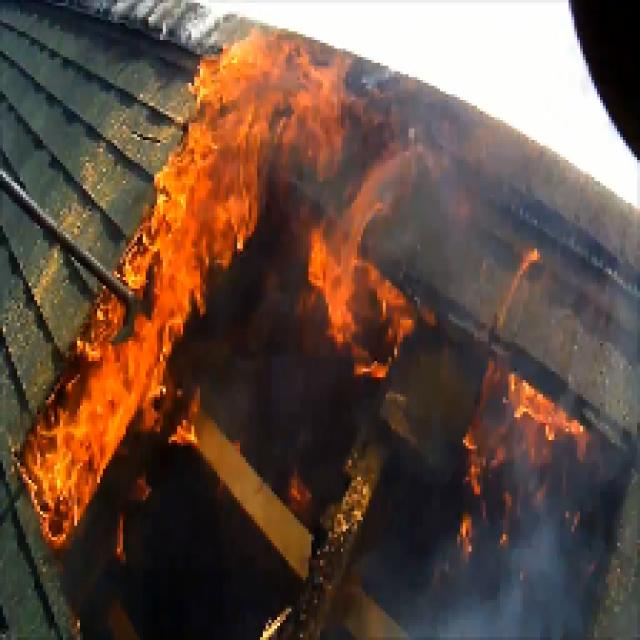fire: (48, 336, 164, 475), (147, 192, 235, 301), (181, 81, 271, 178)
